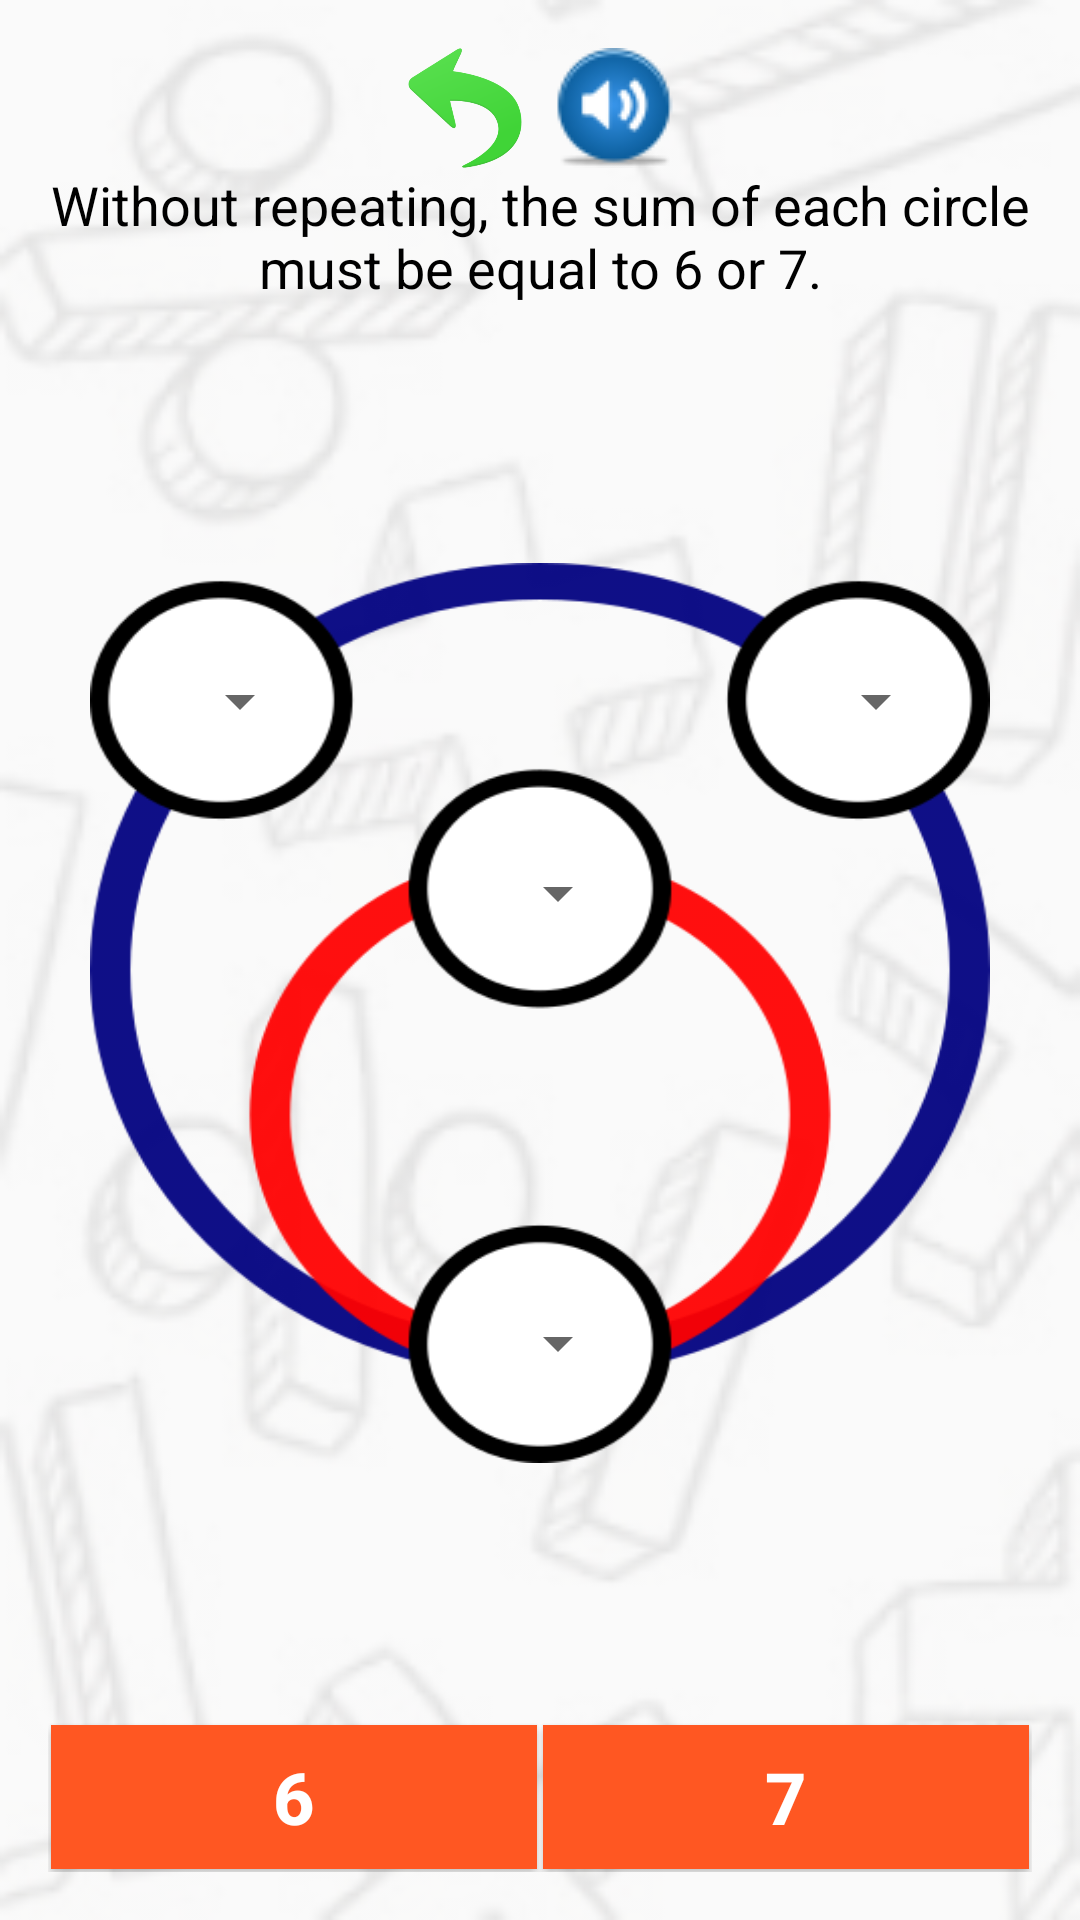

Icons on this 1080*1920 Android screen, each with its box as (x1, y1, x2, y2):
som: (557, 48, 672, 166)
voltar: (408, 48, 522, 168)
